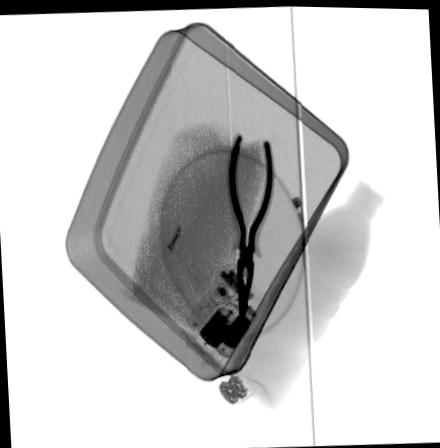Pliers: (225, 131, 276, 321)
